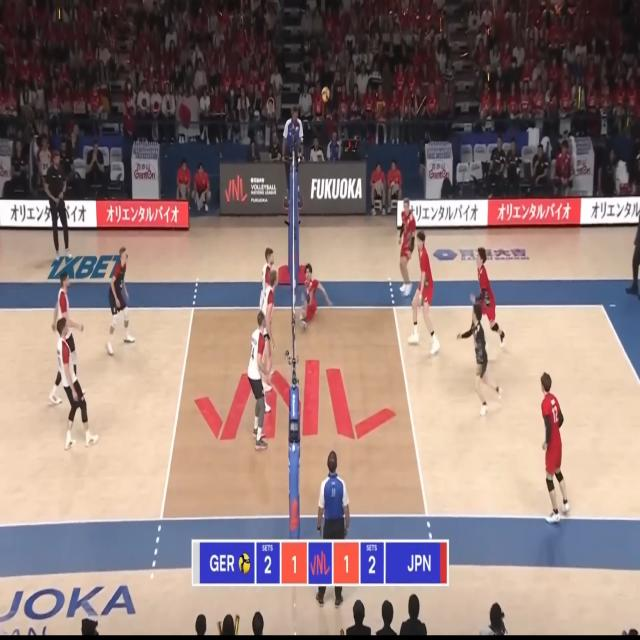ball: (322, 87, 329, 102)
